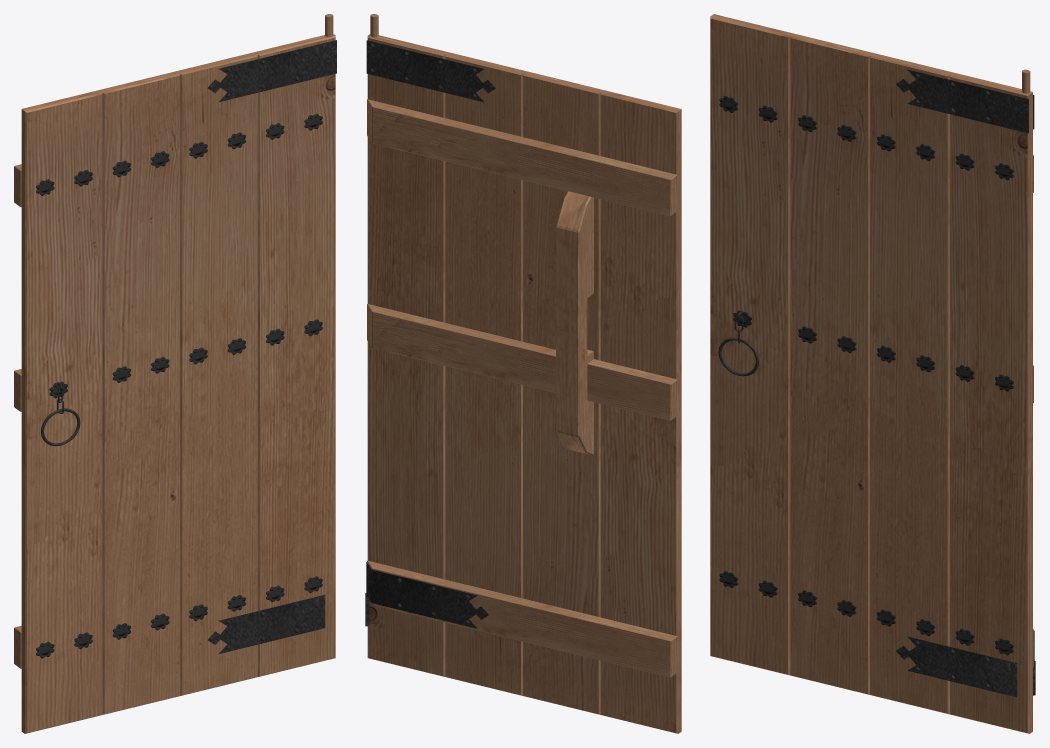
File: SM_Yeonkyung_Jangrakmoon_Door_C_001.fbx
3 renders of one model, left to right at view 1: azimuth 30°, elevation 25°; view 2: azimuth 150°, elevation 25°; view 3: azimuth 330°, elevation 25°, orthographic. The views are drawn at different scales.
Visible parts, largest first — view 1: SM_Yeonkyung_Jangrakmoon_Door_C_001; view 2: SM_Yeonkyung_Jangrakmoon_Door_C_001; view 3: SM_Yeonkyung_Jangrakmoon_Door_C_001.
Boxes of the visible parts, <box> form: SM_Yeonkyung_Jangrakmoon_Door_C_001: <box>14,14,336,733</box>; SM_Yeonkyung_Jangrakmoon_Door_C_001: <box>365,14,681,733</box>; SM_Yeonkyung_Jangrakmoon_Door_C_001: <box>710,14,1035,733</box>.
Size of the model in its own units: 141 by 278 by 19.42.
